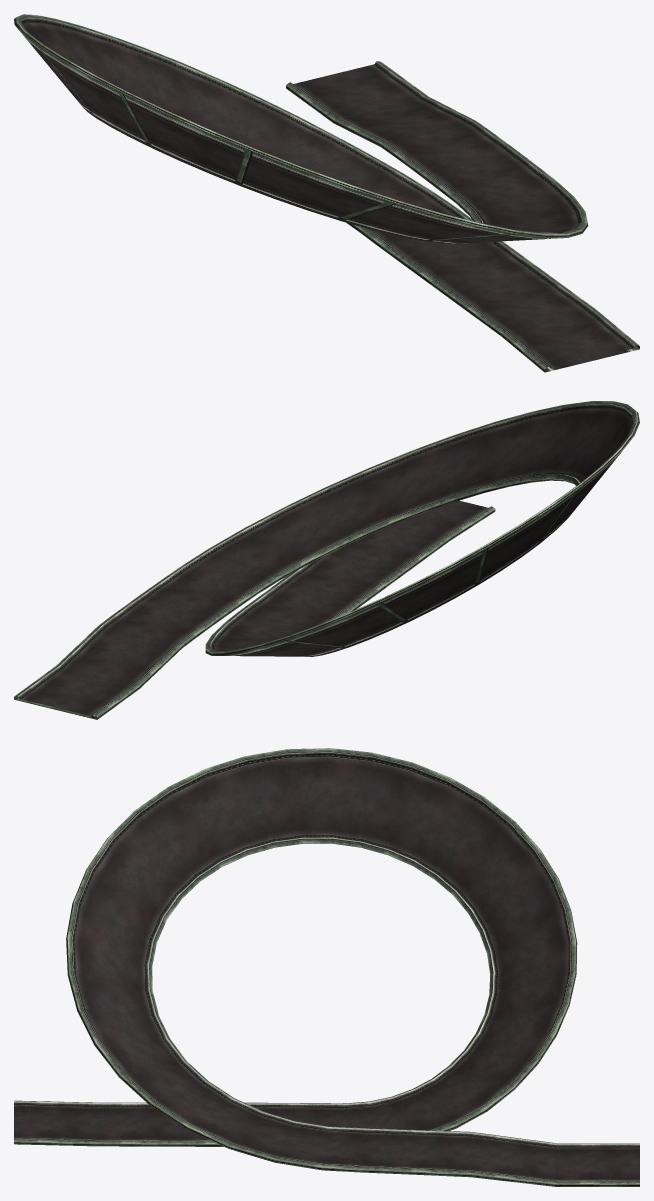
Rendered from LoopingIvre4.fbx.
3 views of the same model, one above another, from view 1: azimuth 30°, elevation 25°; view 2: azimuth 150°, elevation 25°; view 3: azimuth 270°, elevation 25° (orthographic). The views are drawn at different scales.
Parts seen in each view (by area): view 1: LoopingIvre; view 2: LoopingIvre; view 3: LoopingIvre.
Boxes of the visible parts, box(x1,y1,x2,y2) form: LoopingIvre: box(14, 14, 639, 372); LoopingIvre: box(14, 401, 639, 719); LoopingIvre: box(14, 748, 639, 1186).
Size of what is drawn, in the model's own units: 96.73 by 48.41 by 120.
